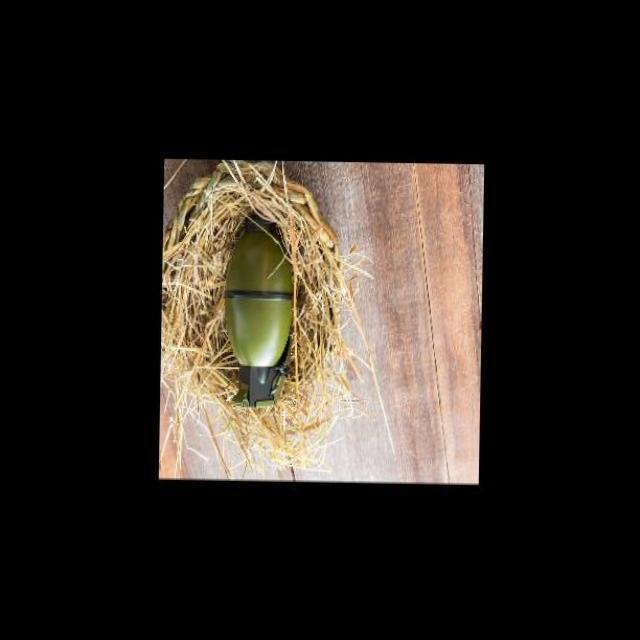grenade: (218, 198, 298, 410)
